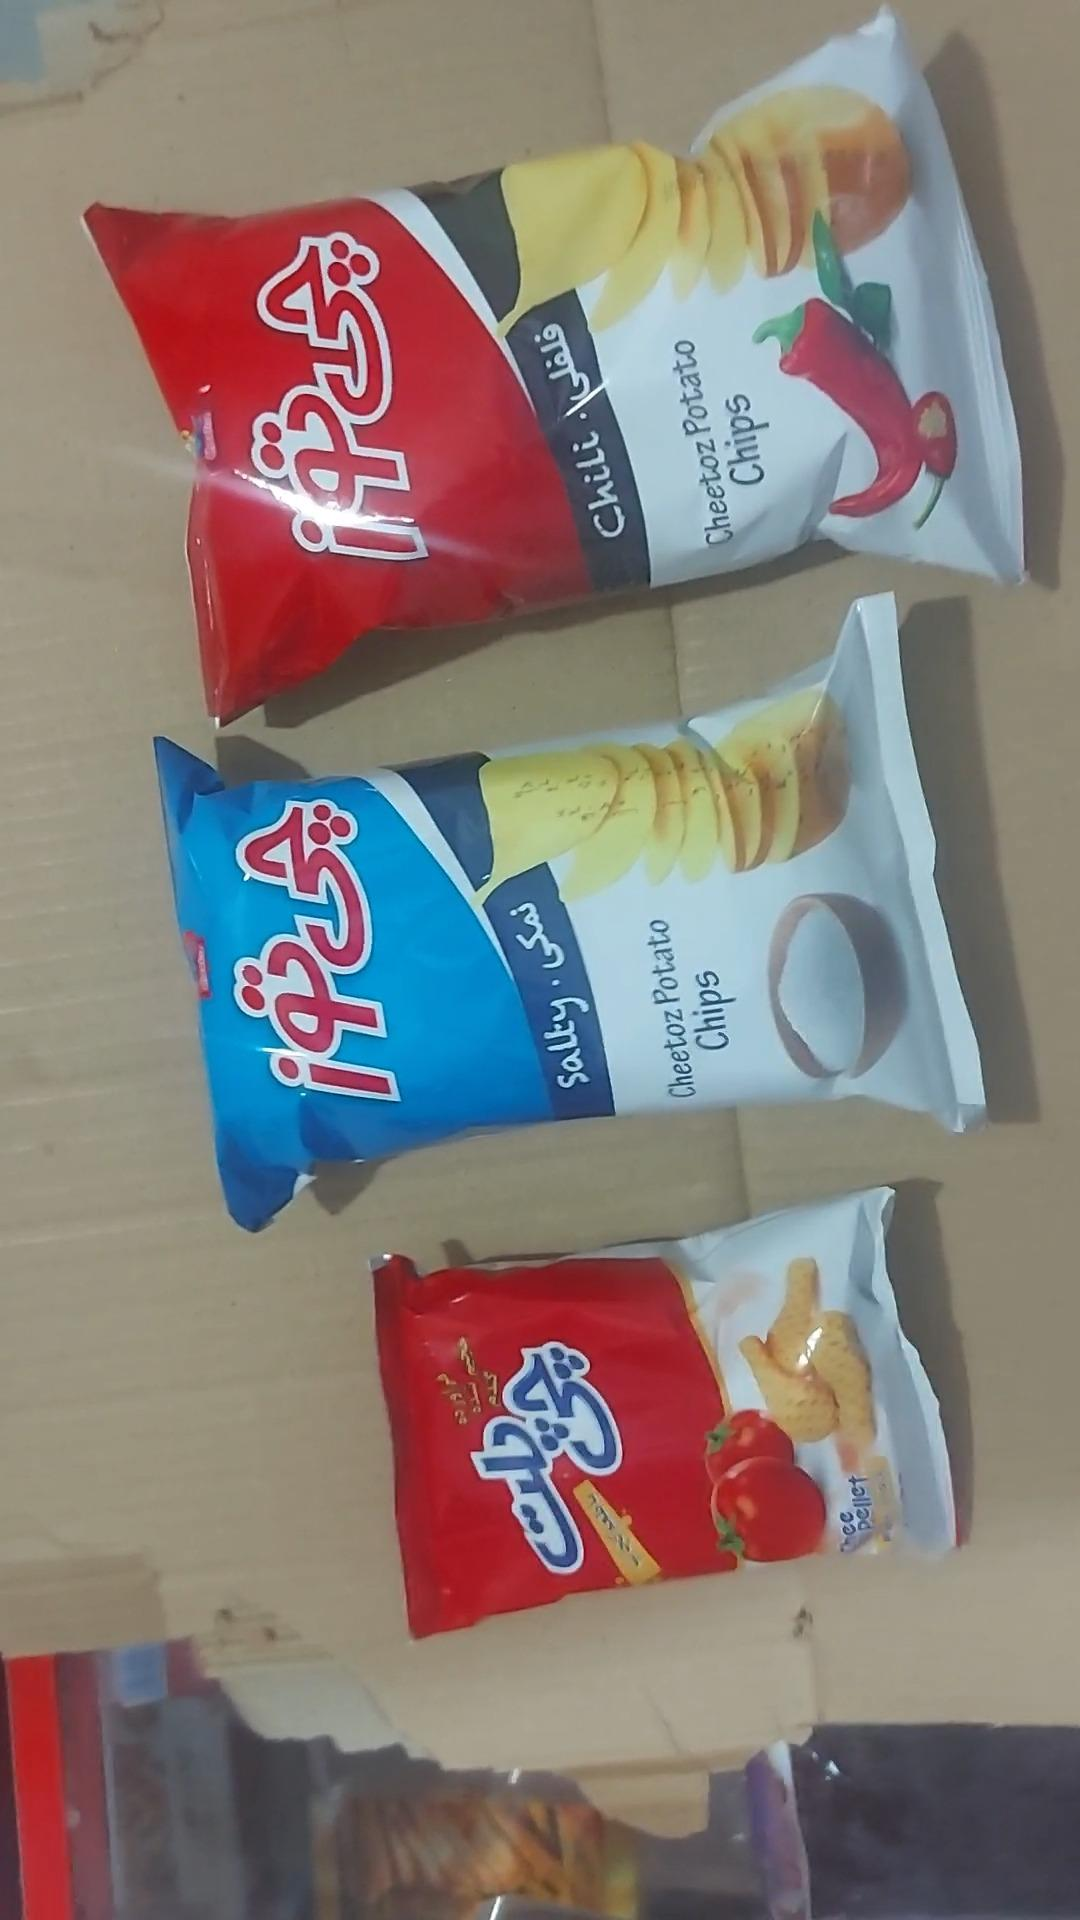Chee pellet ketchup: (369, 1185, 960, 1644)
Cheetoz chili chips: (83, 8, 1029, 727)
Cheetoz salty chips: (153, 593, 988, 1236)
